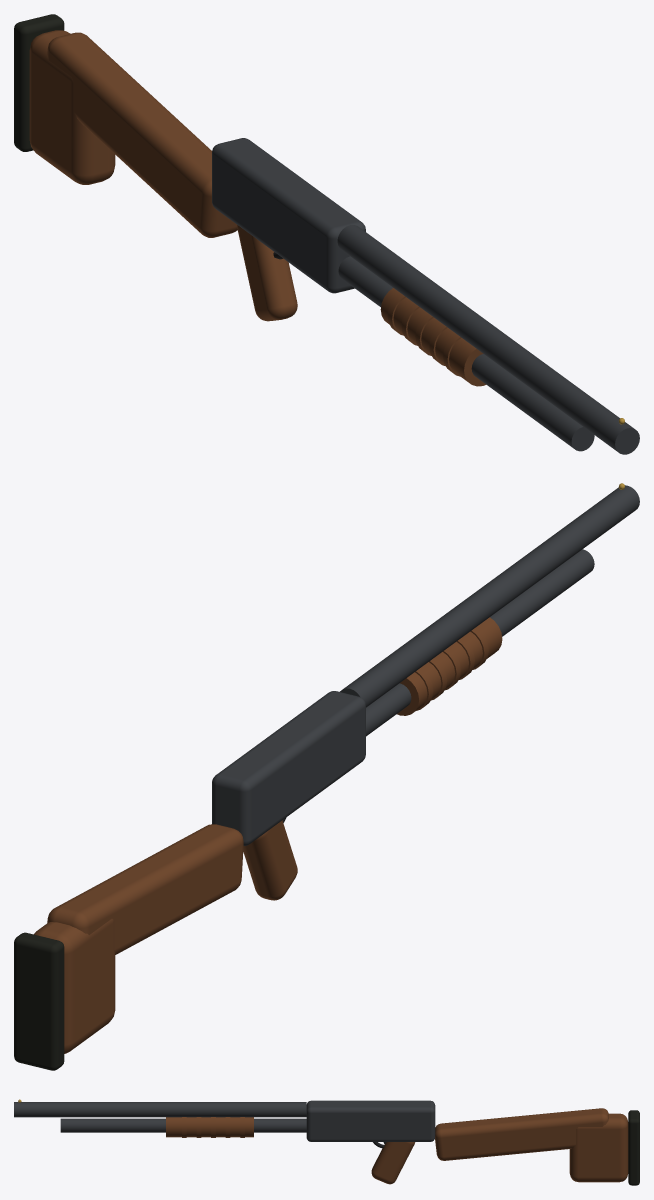
The model's file is shotgun.glb.
3 renders of one model, top to bottom at view 1: azimuth 30°, elevation 25°; view 2: azimuth 150°, elevation 25°; view 3: azimuth 270°, elevation 25°, orthographic. The views are drawn at different scales.
Parts seen in each view (by area): view 1: Stock, Receiver, Barrel, StockButt, MagTube, Grip, ButtPad, Pump; view 2: Receiver, Stock, Barrel, ButtPad, StockButt, MagTube, Grip, Pump; view 3: Stock, Receiver, Barrel, StockButt, MagTube, Pump, Grip, ButtPad.
Boxes of the visible parts, x1,y1,x2,y2 form: Stock: [47, 32, 237, 237]; Receiver: [212, 138, 365, 293]; Barrel: [337, 225, 639, 454]; StockButt: [29, 30, 115, 184]; MagTube: [338, 256, 594, 451]; Grip: [237, 225, 297, 321]; ButtPad: [14, 14, 64, 151]; Pump: [380, 288, 486, 386]; Receiver: [212, 691, 365, 845]; Stock: [47, 824, 243, 954]; Barrel: [340, 485, 639, 707]; ButtPad: [14, 932, 64, 1070]; StockButt: [34, 919, 115, 1053]; MagTube: [366, 549, 594, 736]; Grip: [243, 820, 297, 900]; Pump: [397, 617, 502, 715]; Stock: [435, 1108, 608, 1160]; Receiver: [306, 1100, 435, 1141]; Barrel: [14, 1102, 306, 1117]; StockButt: [569, 1113, 628, 1182]; MagTube: [60, 1118, 306, 1132]; Pump: [166, 1117, 253, 1137]; Grip: [371, 1142, 415, 1184]; ButtPad: [628, 1110, 639, 1185].
Size of the model in its own units: 0.046 by 0.1571 by 1.07.
